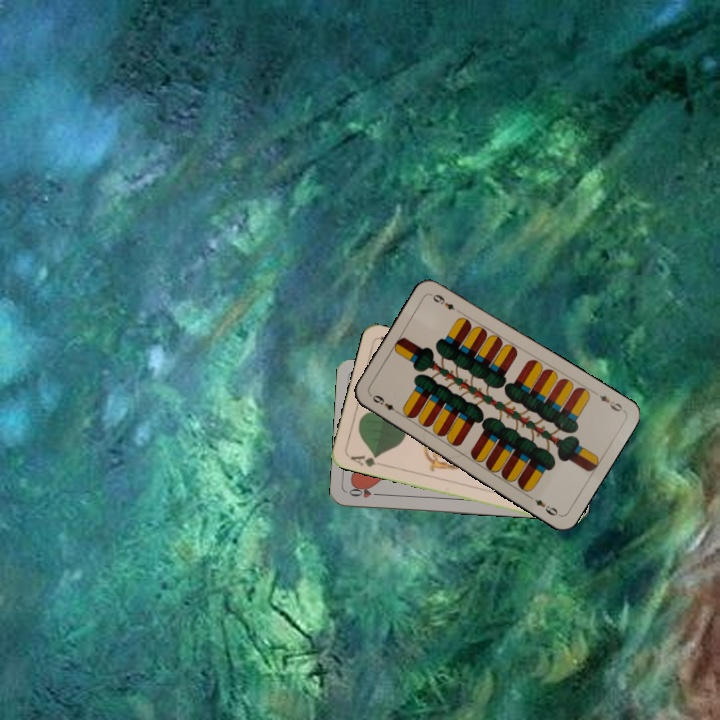E9: (366, 391, 403, 417), (595, 390, 625, 414)
GA: (346, 451, 380, 470)
HO: (345, 483, 385, 501)
